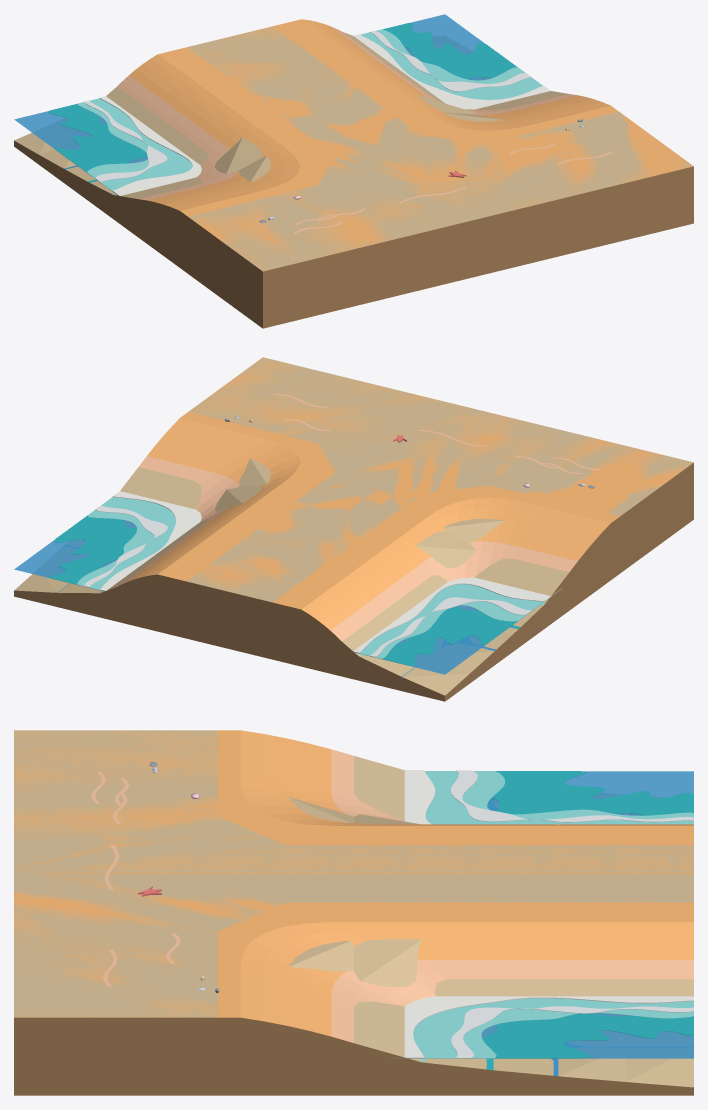
The model's file is costa_areia_faixa_base.glb.
3 views of the same model, one above another, from view 1: azimuth 30°, elevation 25°; view 2: azimuth 150°, elevation 25°; view 3: azimuth 270°, elevation 25° (orthographic). The views are drawn at different scales.
Parts seen in each view (by area): view 1: costa_areia_faixa_base, colisao_praia; view 2: costa_areia_faixa_base, colisao_praia; view 3: costa_areia_faixa_base, colisao_praia.
Part boxes in pixels (box(x1,y1,x2,y2)): costa_areia_faixa_base: box(14, 14, 693, 328); colisao_praia: box(14, 26, 693, 328); costa_areia_faixa_base: box(14, 358, 693, 700); colisao_praia: box(14, 357, 693, 701); costa_areia_faixa_base: box(14, 730, 693, 1095); colisao_praia: box(14, 730, 693, 1095).
Bounding box in the file's own units: 15 × 1.99 × 15.
2 materials, 1 textured.
